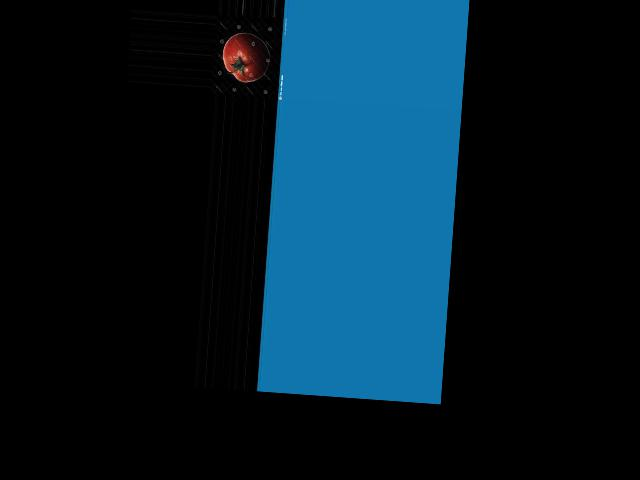tomato: (221, 30, 271, 83)
